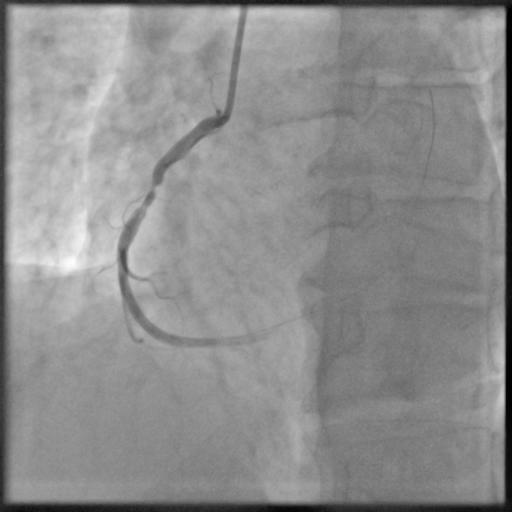Stenosis: (146, 178, 160, 209)
